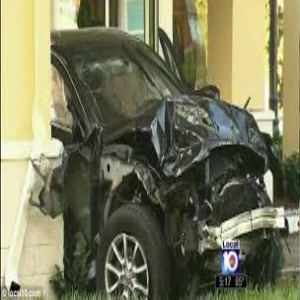bonnet: (156, 95, 263, 174)
